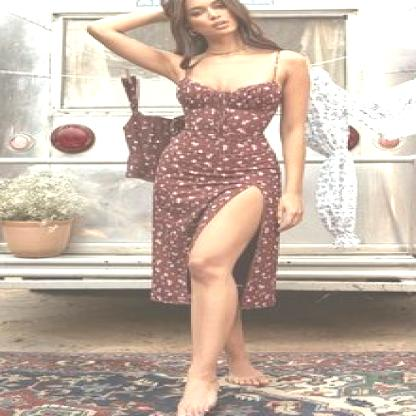jacket: (157, 46, 304, 314)
